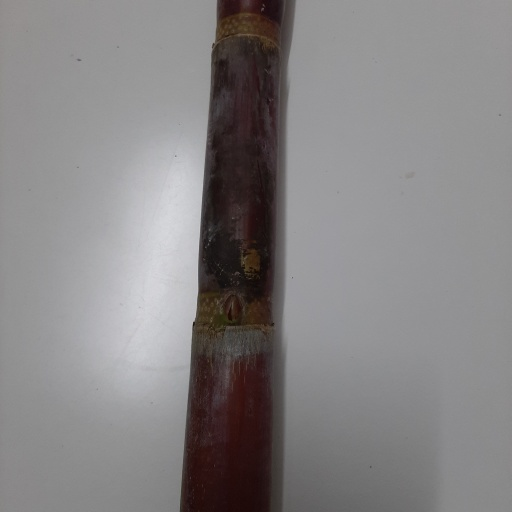Bud: (221, 293, 242, 324)
